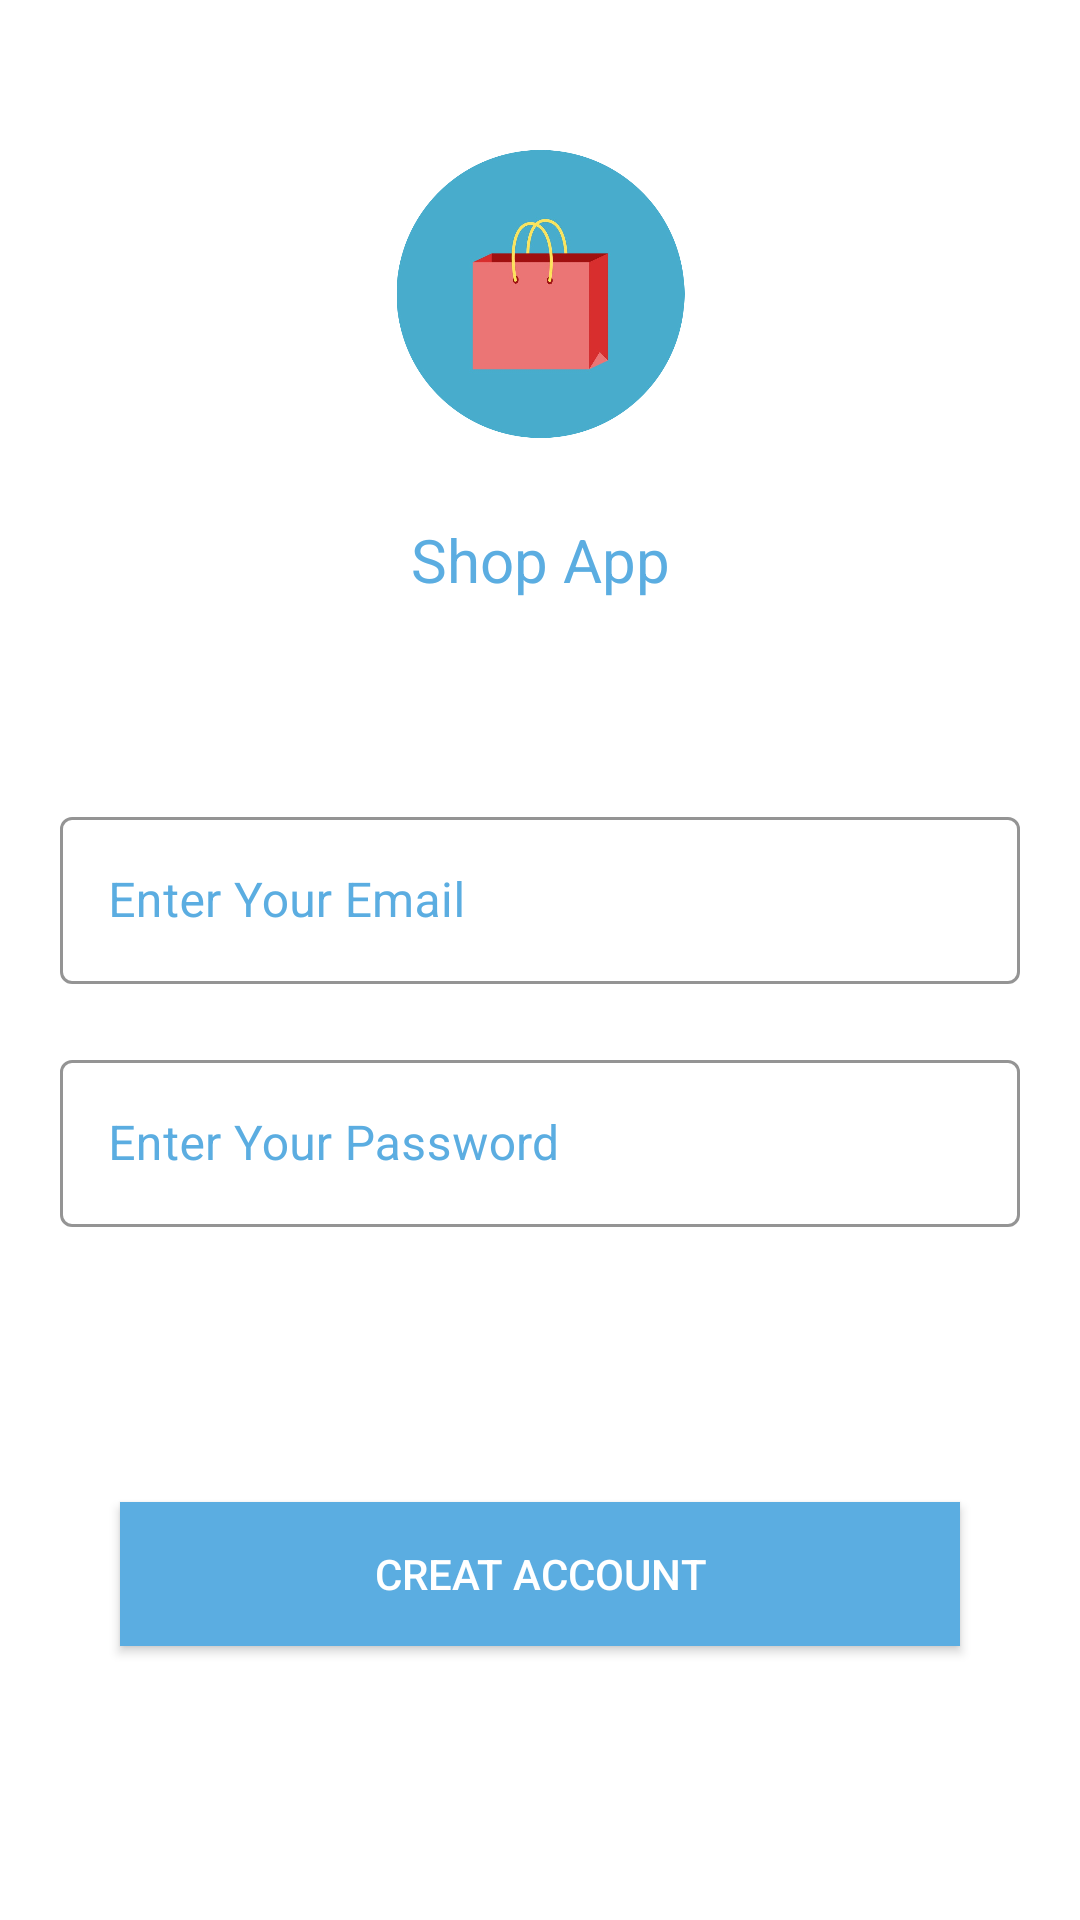

Icons on this 1080 x 1920 Android screen, each with the point to tap as (x=x, y=y):
bag: (x=541, y=294)
